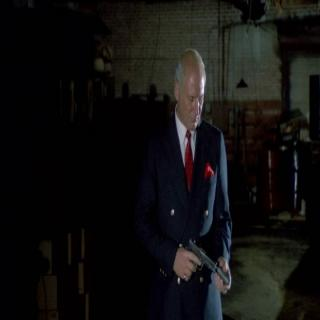gun: (170, 233, 230, 299)
